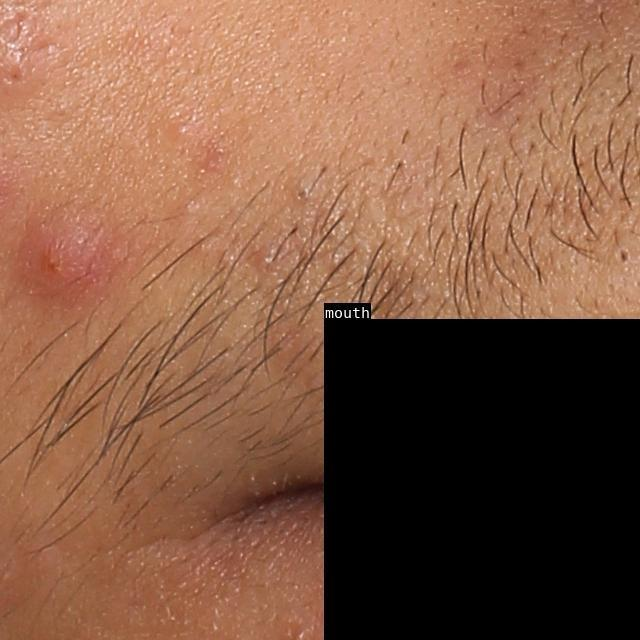comedo: (291, 183, 315, 207), (254, 250, 277, 272), (613, 244, 633, 269)
papule: (15, 201, 125, 296)
